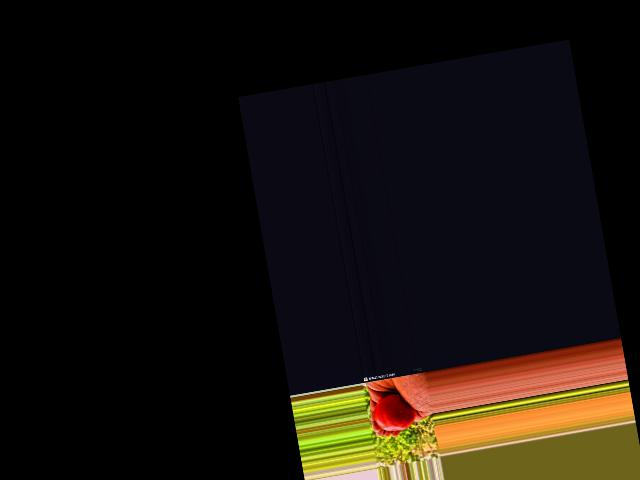tomato: (371, 390, 418, 433)
